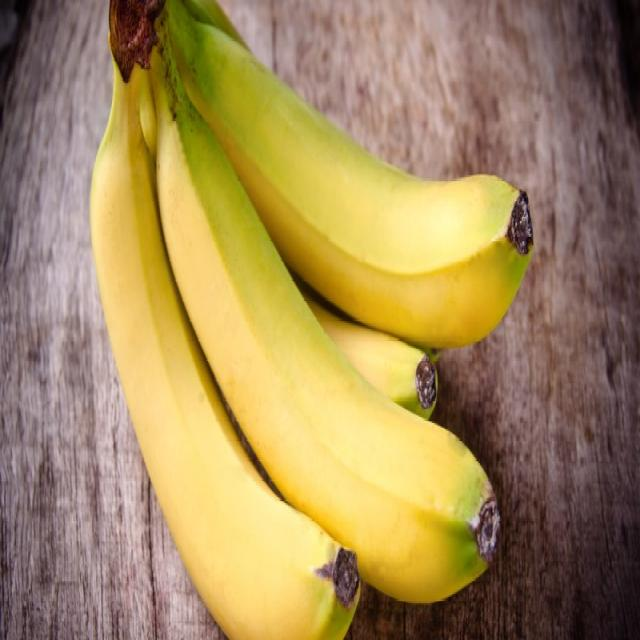banana: (90, 0, 529, 640)
